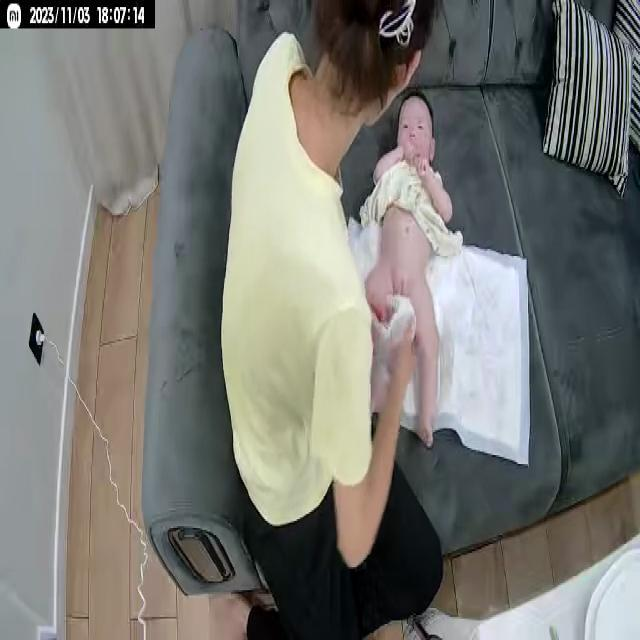baby: (352, 87, 462, 451)
